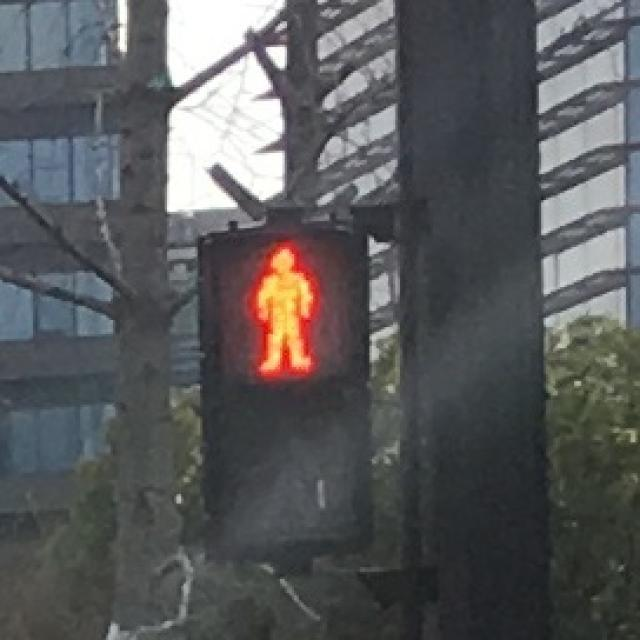red-crossing: (217, 235, 351, 384)
